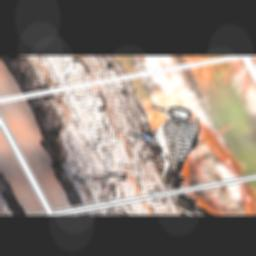Woodpecker: (104, 96, 238, 195)
